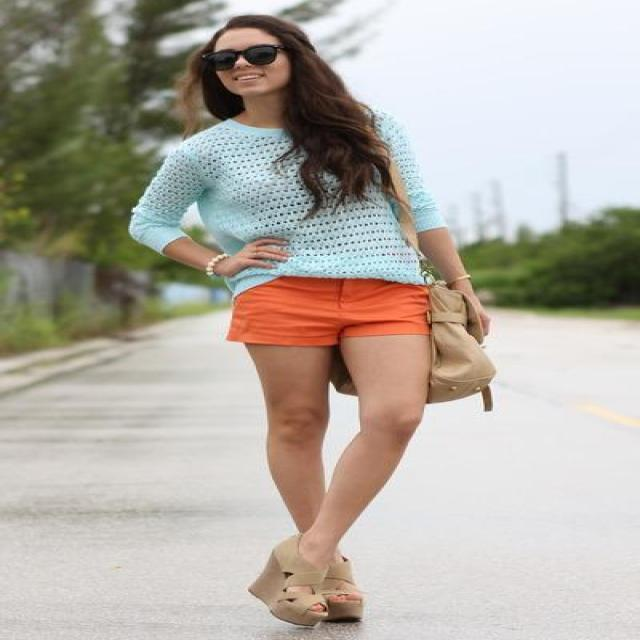bag: (308, 303, 494, 411)
jacket: (128, 90, 446, 293)
shoe: (250, 561, 363, 630)
shorts: (227, 275, 443, 347)
